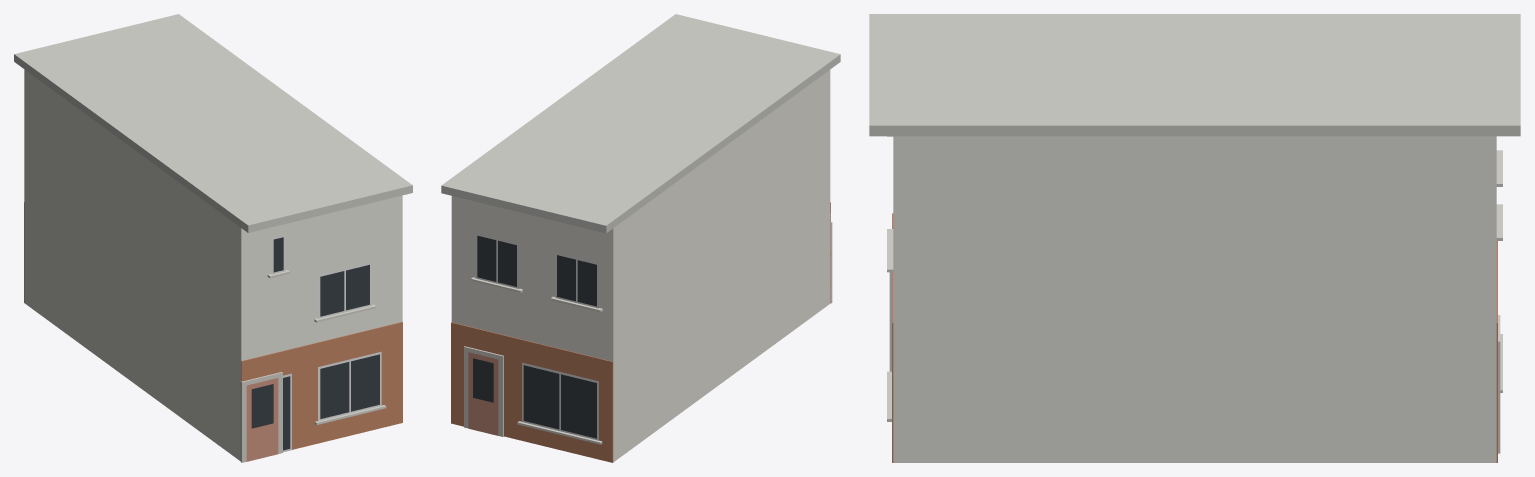
File: nw-os-white-low__white__2__flat__long__solid.glb
The picture shows the model from 3 angles, left to right: view 1: azimuth 30°, elevation 25°; view 2: azimuth 150°, elevation 25°; view 3: azimuth 270°, elevation 25°; orthographic projection. The views are drawn at different scales.
Visible parts, largest first — view 1: nw-os-white-low__white__2__flat__long__solid; view 2: nw-os-white-low__white__2__flat__long__solid; view 3: nw-os-white-low__white__2__flat__long__solid.
Part boxes in pixels (bbox=[...]): nw-os-white-low__white__2__flat__long__solid: bbox=[14, 14, 412, 462]; nw-os-white-low__white__2__flat__long__solid: bbox=[441, 14, 840, 462]; nw-os-white-low__white__2__flat__long__solid: bbox=[869, 14, 1520, 462].
Size of the model in its own units: 4.96 by 7 by 12.21.
